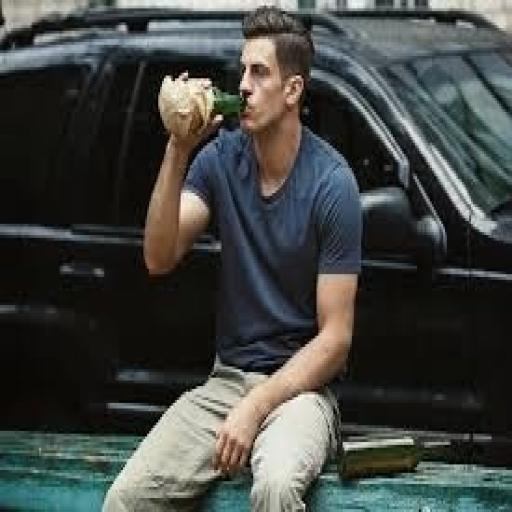drinking: (148, 2, 486, 292)
